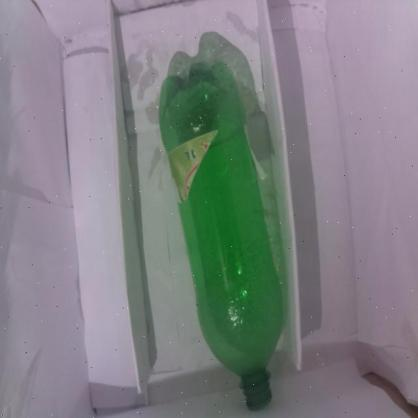bottle: (153, 61, 294, 415)
label: (154, 129, 204, 205)
